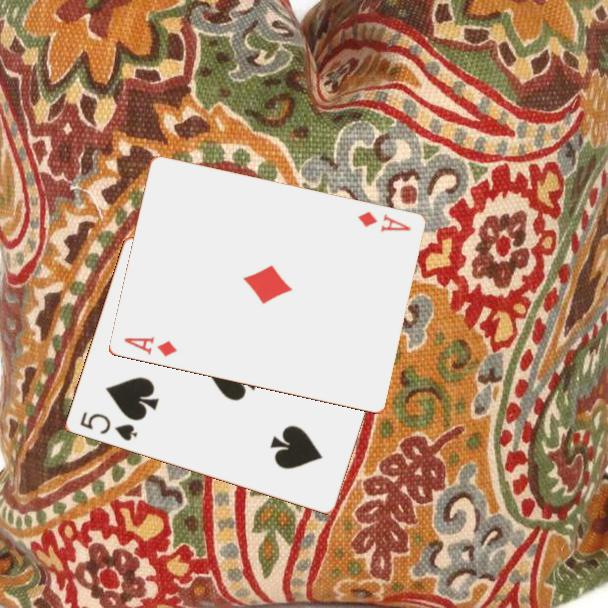d01: (120, 333, 180, 360), (354, 208, 414, 235)
s05: (76, 409, 140, 444)
